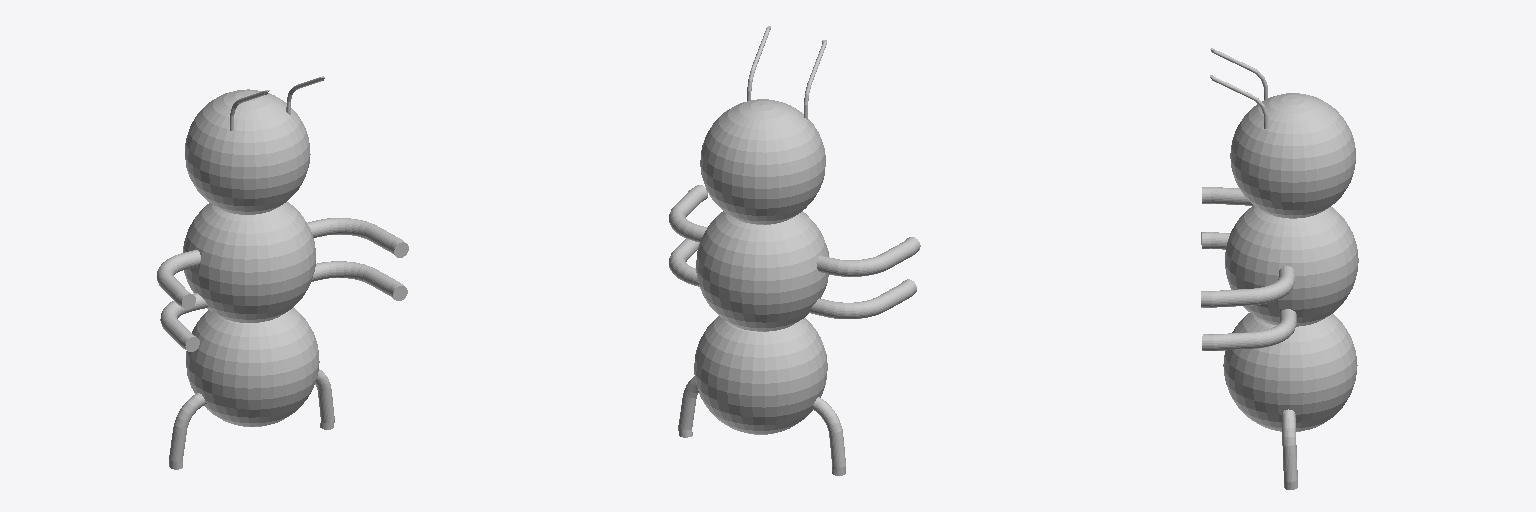
Rendered from ant.obj.
3 views of the same model, side by side, from view 1: azimuth 30°, elevation 25°; view 2: azimuth 150°, elevation 25°; view 3: azimuth 270°, elevation 25° (orthographic).
Visible parts, largest first — view 1: Sphere.001, Sphere.002, Sphere, Cylinder.002_Cylinder, Cylinder.007_Cylinder.006, Cylinder.003_Cylinder.001, Cylinder.006_Cylinder.005, Cylinder.005_Cylinder.004, Cylinder.004_Cylinder.002; view 2: Sphere.002, Sphere.001, Sphere, Cylinder.003_Cylinder.001, Cylinder.006_Cylinder.005, Cylinder.002_Cylinder, Cylinder.005_Cylinder.004, Cylinder.007_Cylinder.006, Cylinder.004_Cylinder.002; view 3: Sphere.002, Sphere.001, Sphere, Cylinder.007_Cylinder.006, Cylinder.002_Cylinder, Cylinder.004_Cylinder.002, Cylinder.003_Cylinder.001.
Part boxes in pixels (bbox=[...]): Sphere.001: bbox=[183, 202, 315, 322]; Sphere.002: bbox=[185, 89, 310, 214]; Sphere: bbox=[186, 307, 319, 426]; Cylinder.002_Cylinder: bbox=[307, 218, 408, 257]; Cylinder.007_Cylinder.006: bbox=[311, 261, 407, 300]; Cylinder.003_Cylinder.001: bbox=[157, 250, 200, 309]; Cylinder.006_Cylinder.005: bbox=[160, 293, 208, 351]; Cylinder.005_Cylinder.004: bbox=[169, 393, 206, 469]; Cylinder.004_Cylinder.002: bbox=[315, 369, 334, 429]; Sphere.002: bbox=[700, 99, 825, 224]; Sphere.001: bbox=[696, 211, 828, 331]; Sphere: bbox=[694, 316, 827, 434]; Cylinder.003_Cylinder.001: bbox=[816, 237, 920, 276]; Cylinder.006_Cylinder.005: bbox=[809, 279, 916, 318]; Cylinder.002_Cylinder: bbox=[669, 185, 707, 242]; Cylinder.005_Cylinder.004: bbox=[812, 397, 845, 475]; Cylinder.007_Cylinder.006: bbox=[669, 239, 699, 286]; Cylinder.004_Cylinder.002: bbox=[678, 376, 698, 437]; Sphere.002: bbox=[1230, 93, 1355, 218]; Sphere.001: bbox=[1225, 206, 1358, 326]; Sphere: bbox=[1223, 313, 1357, 431]; Cylinder.007_Cylinder.006: bbox=[1202, 309, 1296, 350]; Cylinder.002_Cylinder: bbox=[1201, 266, 1294, 307]; Cylinder.004_Cylinder.002: bbox=[1282, 409, 1297, 489]; Cylinder.003_Cylinder.001: bbox=[1202, 187, 1253, 205].
Bounding box in the file's own units: 3.92 × 6.44 × 2.35.